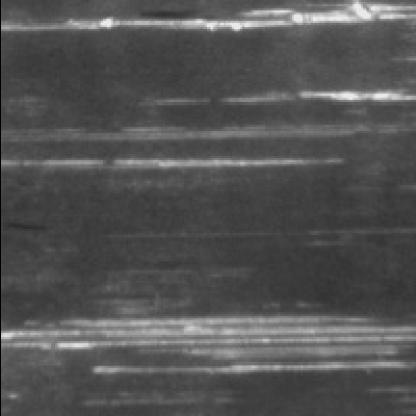scratches: (2, 308, 410, 376), (0, 0, 410, 33), (0, 146, 341, 176), (158, 79, 412, 106)
